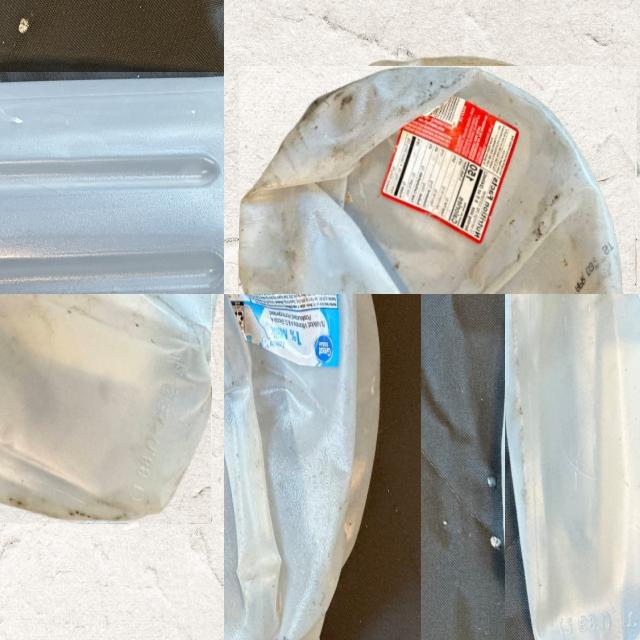milk-jug: (237, 65, 635, 294), (224, 294, 377, 640), (0, 71, 224, 294), (0, 294, 211, 523), (504, 294, 640, 640)
